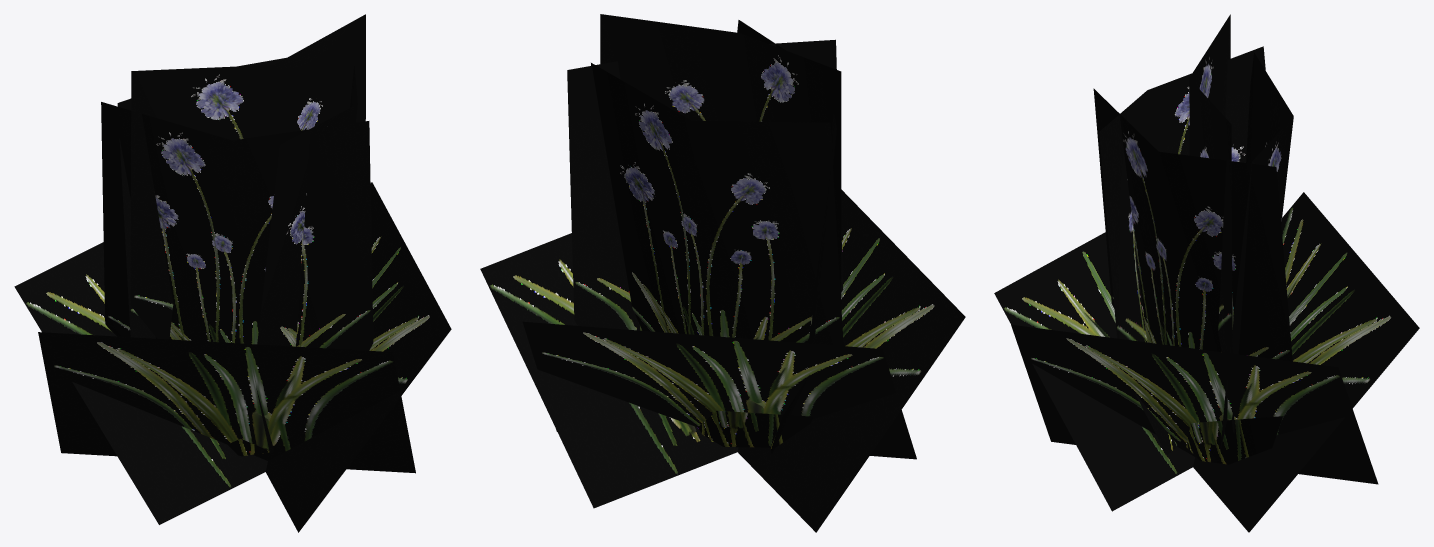
The model's file is Arbusto_AgapantoAfricano 1.fbx.
The picture shows the model from 3 angles, left to right: view 1: azimuth 30°, elevation 25°; view 2: azimuth 150°, elevation 25°; view 3: azimuth 270°, elevation 25°; orthographic projection. The views are drawn at different scales.
Parts seen in each view (by area): view 1: Plane.054; view 2: Plane.054; view 3: Plane.054.
Part boxes in pixels (bbox=[...]): Plane.054: bbox=[14, 14, 451, 532]; Plane.054: bbox=[480, 14, 965, 532]; Plane.054: bbox=[994, 14, 1419, 532].
Size of the model in its own units: 99.18 by 96.32 by 94.44.
Materials: 2 (2 with a texture image).
